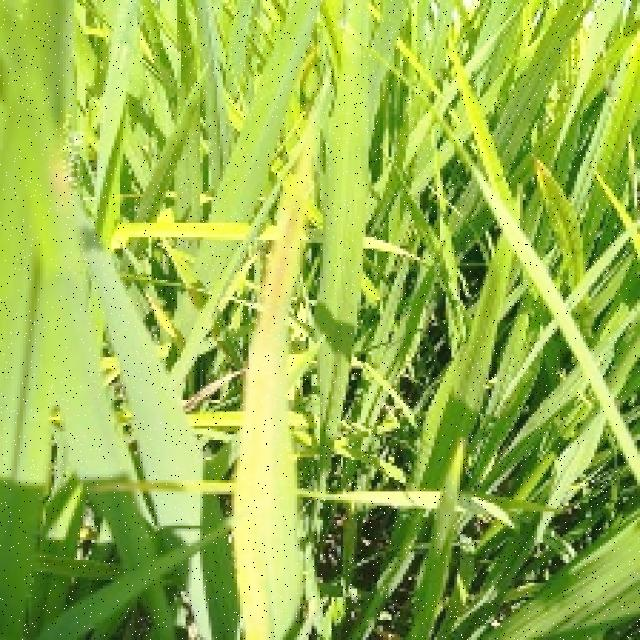health: (0, 0, 637, 494)
